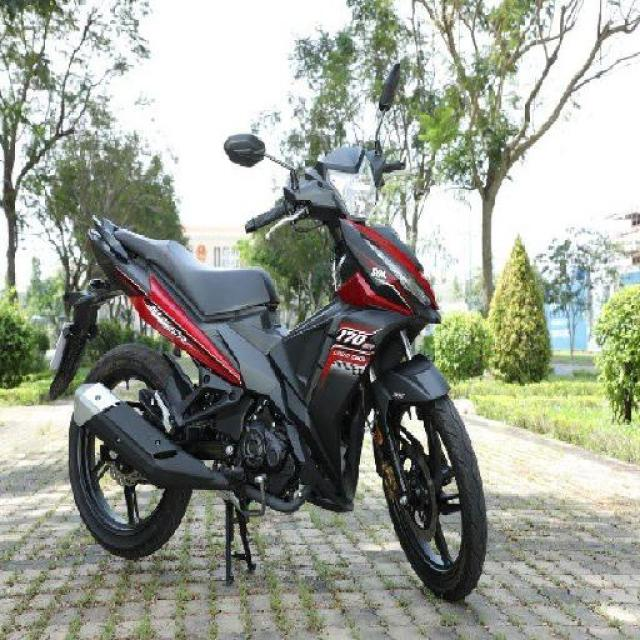All: (40, 112, 491, 602)
Head: (240, 143, 403, 233)
Tail: (70, 209, 146, 288)
